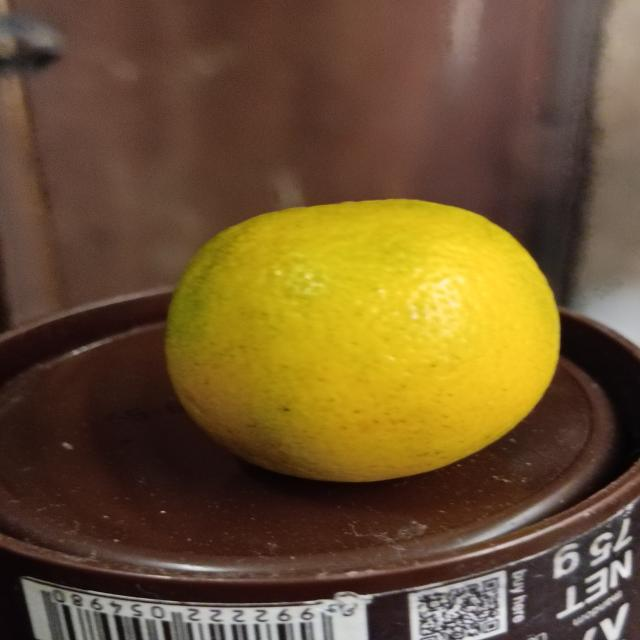greening: (167, 198, 573, 490)
